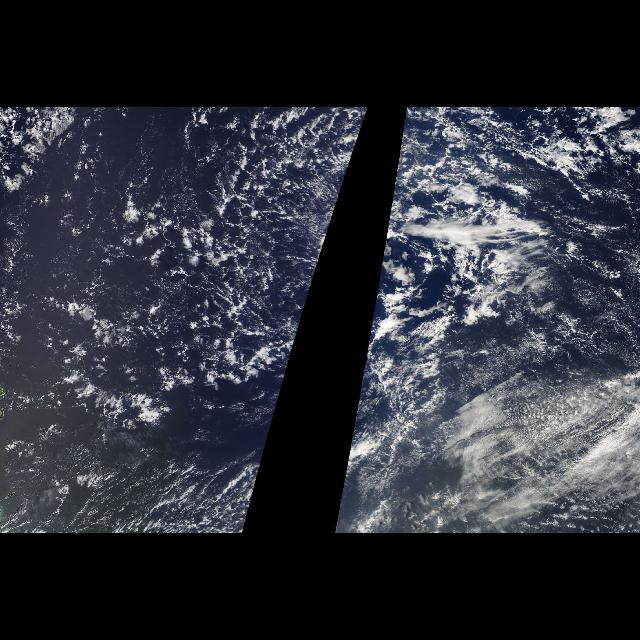Gravel: (139, 108, 329, 370)
